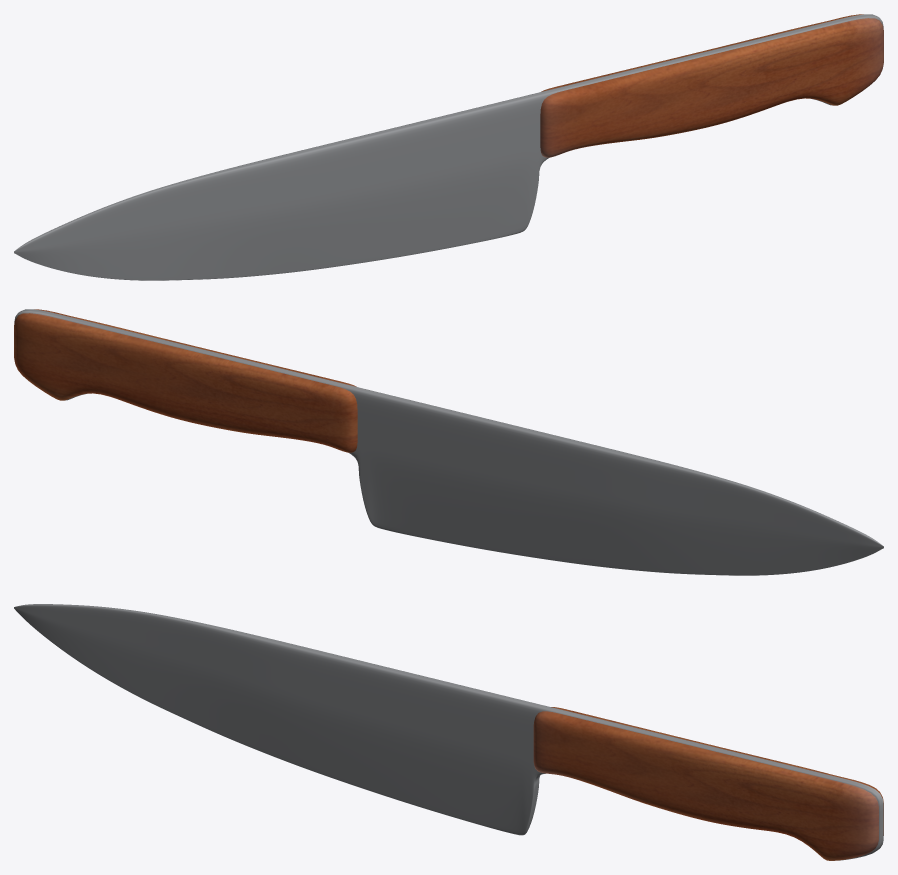
The model's file is KitchenKnifeComplete.fbx.
The picture shows the model from 3 angles, top to bottom: view 1: azimuth 30°, elevation 25°; view 2: azimuth 150°, elevation 25°; view 3: azimuth 330°, elevation 25°; orthographic projection.
Visible parts, largest first — view 1: Knife, KnifeHandle; view 2: Knife, KnifeHandle; view 3: Knife, KnifeHandle.
Part boxes in pixels (bbox=[...]): Knife: bbox=[14, 14, 883, 280]; KnifeHandle: bbox=[540, 14, 883, 157]; Knife: bbox=[14, 309, 883, 575]; KnifeHandle: bbox=[14, 309, 357, 452]; Knife: bbox=[14, 604, 883, 860]; KnifeHandle: bbox=[533, 707, 883, 860].
Bounding box in the file's own units: 31.85 × 4.72 × 1.01.
2 materials, 2 textured.
